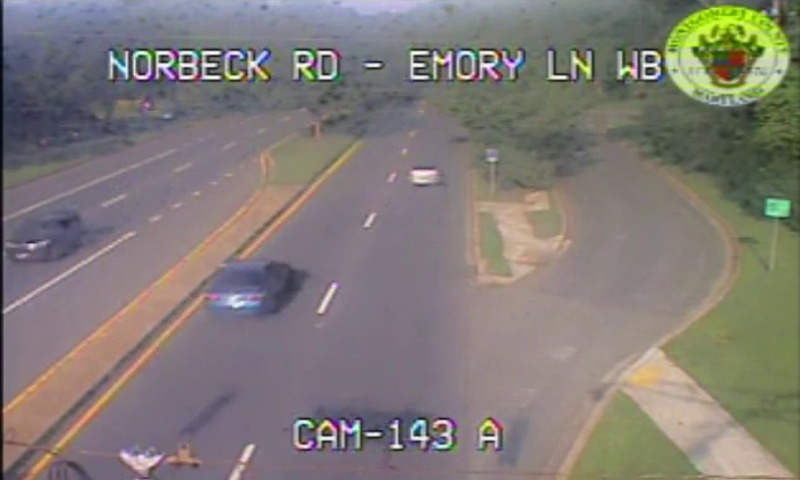car: (203, 259, 290, 312), (407, 164, 440, 185)
